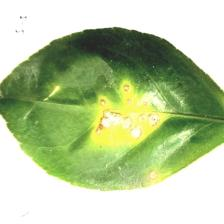canker: (75, 82, 175, 142)
